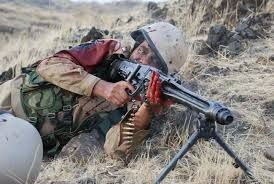gun: (112, 41, 237, 137)
